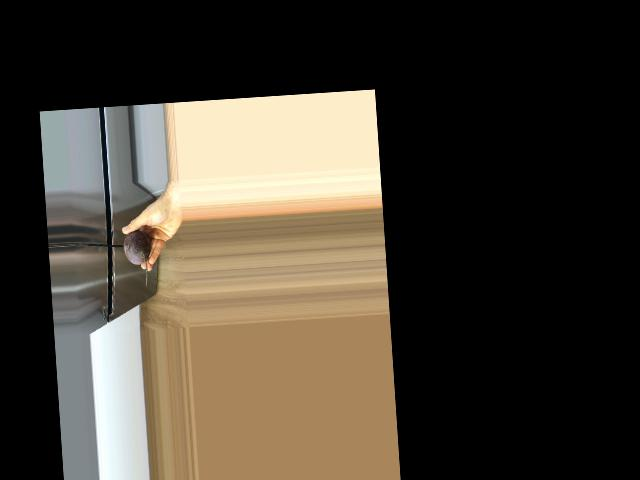beet: (122, 229, 152, 288)
